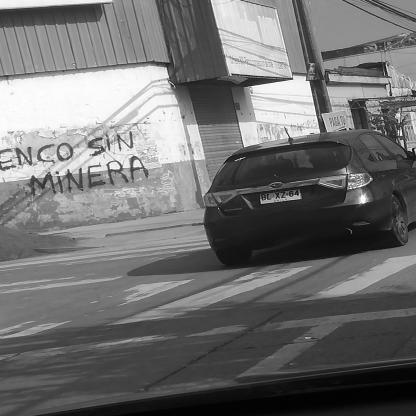Patente: (257, 187, 304, 207)
